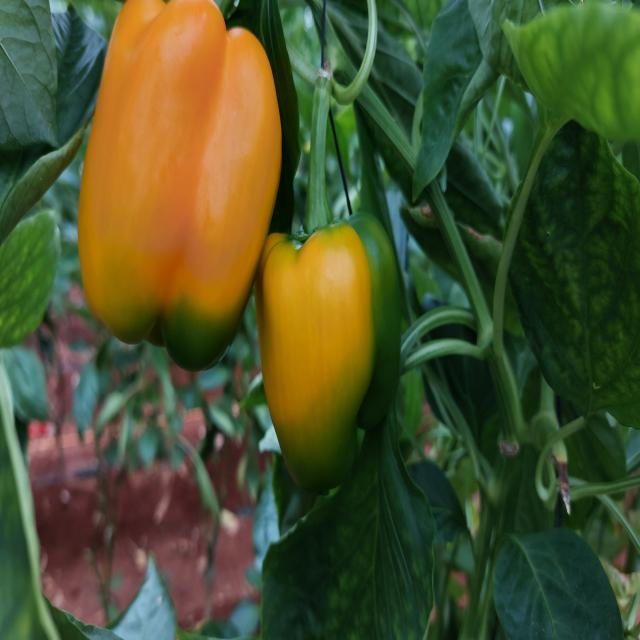Yellow-Ready-to-Harvest: (76, 2, 279, 350), (259, 237, 370, 428)
